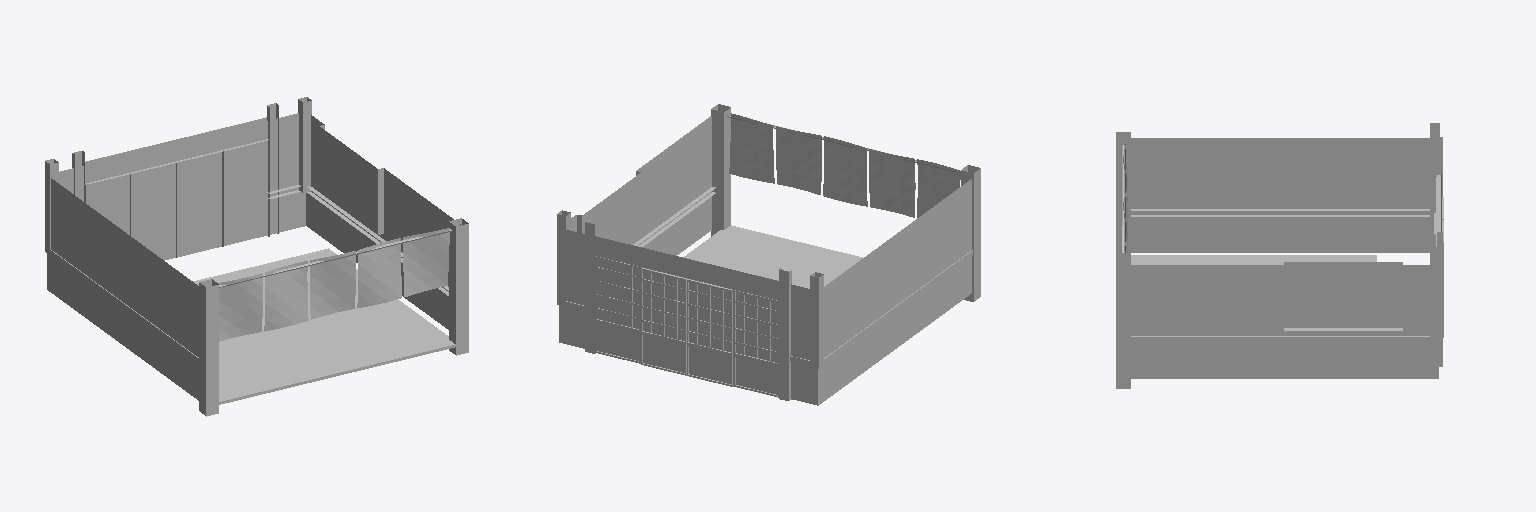
Rendered from exterior.obj.
The picture shows the model from 3 angles: view 1: azimuth 30°, elevation 25°; view 2: azimuth 150°, elevation 25°; view 3: azimuth 270°, elevation 25°; orthographic projection.
Visible parts, largest first — view 1: polySurface305; view 2: polySurface305; view 3: polySurface305.
Part boxes in pixels (x1,y1,x2,y2): polySurface305: (45,97,468,416); polySurface305: (557,104,980,405); polySurface305: (1116,123,1443,388).
Size of the model in its own units: 10.09 by 5.05 by 10.89.